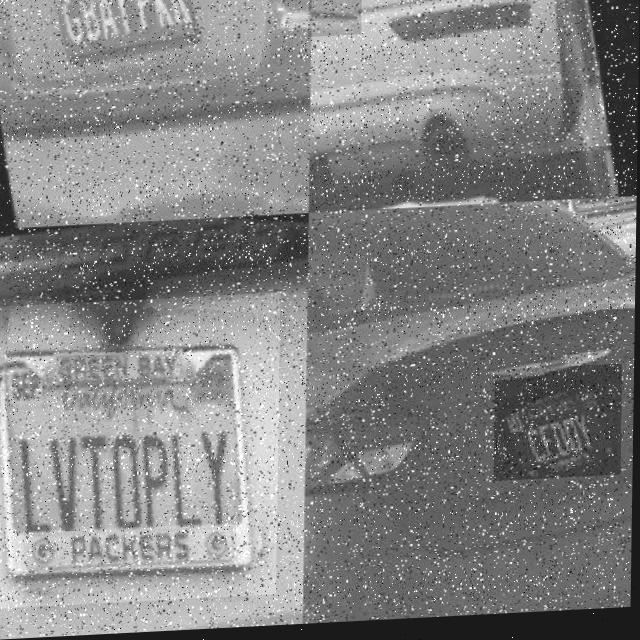LicensePlate: (0, 295, 281, 609), (497, 372, 622, 485), (44, 0, 208, 77), (308, 0, 362, 40)
